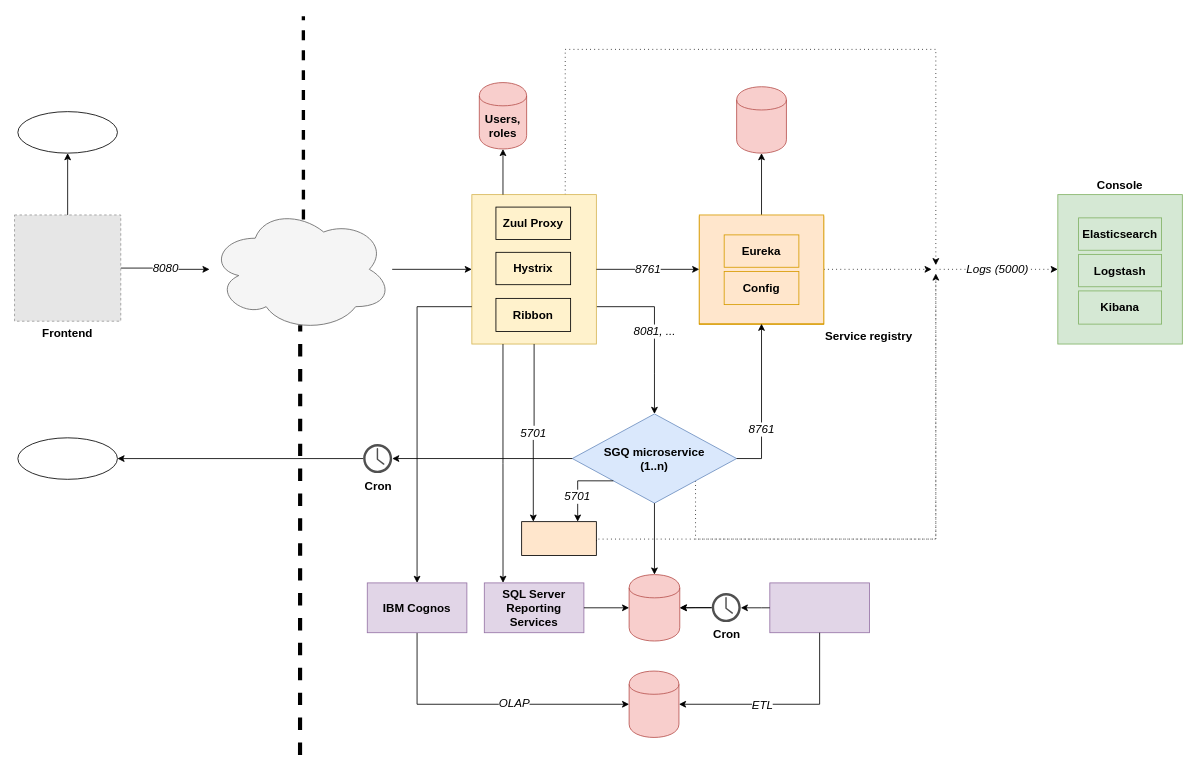
Image size: 1197x772. Some labels were removed from this diagram. Grey dashed boxes stand in for pictures. Here are the shapes that lost their labels. From the top down, the box of each, then its label:
(17, 111, 117, 153): Normas (SasS)
(736, 86, 786, 153): Git repo
(209, 206, 392, 332): Internet
(471, 194, 596, 344): Gateway
(17, 437, 117, 479): Consultoria
(521, 521, 596, 556): Cache (Hazelcast)
(628, 574, 680, 641): SGQ
(769, 582, 869, 633): SQL Server Integration Services
(628, 670, 679, 737): BI
